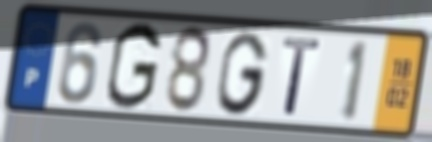1: (341, 38, 370, 125)
6: (55, 19, 103, 107)
8: (162, 23, 214, 116)
G: (103, 19, 165, 113), (214, 28, 271, 118)
T: (279, 34, 324, 119)
